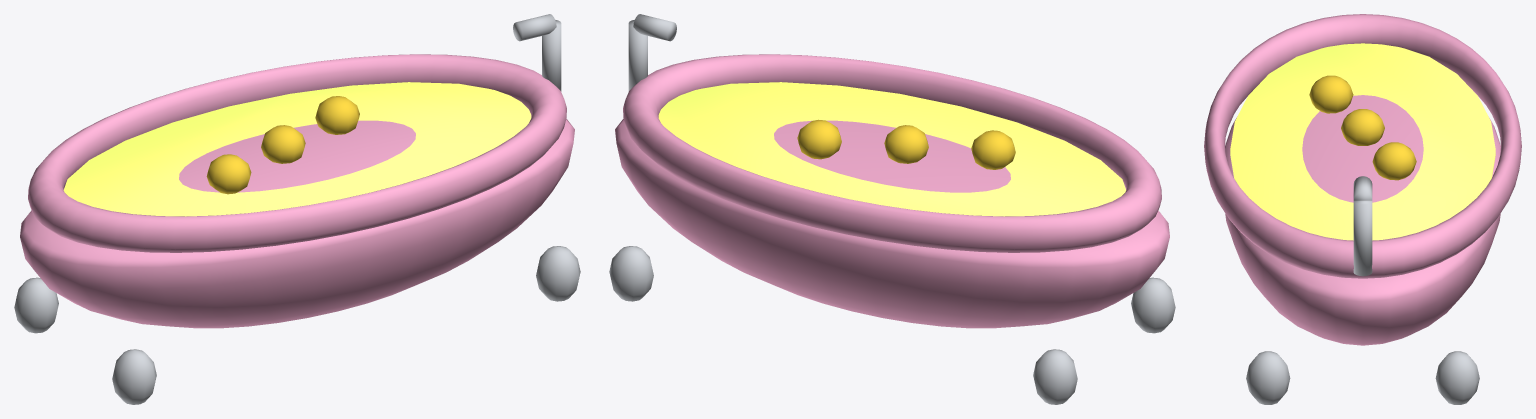
The model's file is Furn_Bathtub.fbx.
The picture shows the model from 3 angles, left to right: view 1: azimuth 30°, elevation 25°; view 2: azimuth 150°, elevation 25°; view 3: azimuth 270°, elevation 25°; orthographic projection. The views are drawn at different scales.
Visible parts, largest first — view 1: Furn_Bathtub; view 2: Furn_Bathtub; view 3: Furn_Bathtub.
Part boxes in pixels (x1=…): Furn_Bathtub: x1=14, y1=14, x2=580, y2=404; Furn_Bathtub: x1=609, y1=14, x2=1175, y2=404; Furn_Bathtub: x1=1204, y1=14, x2=1521, y2=404.
Bounding box in the file's own units: 1.9 × 0.81 × 1.01.
